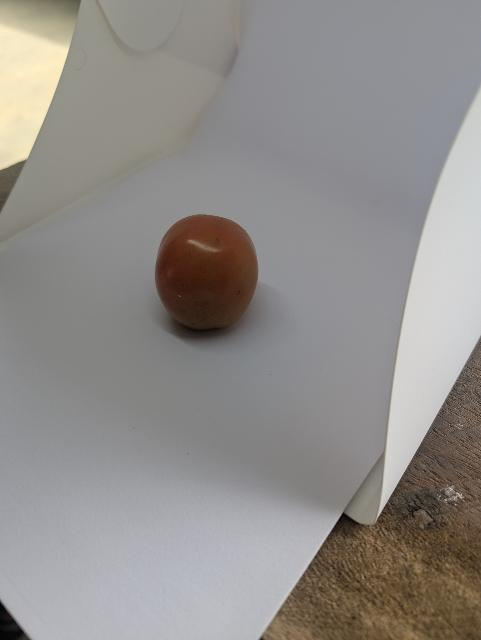red: (150, 209, 268, 344)
